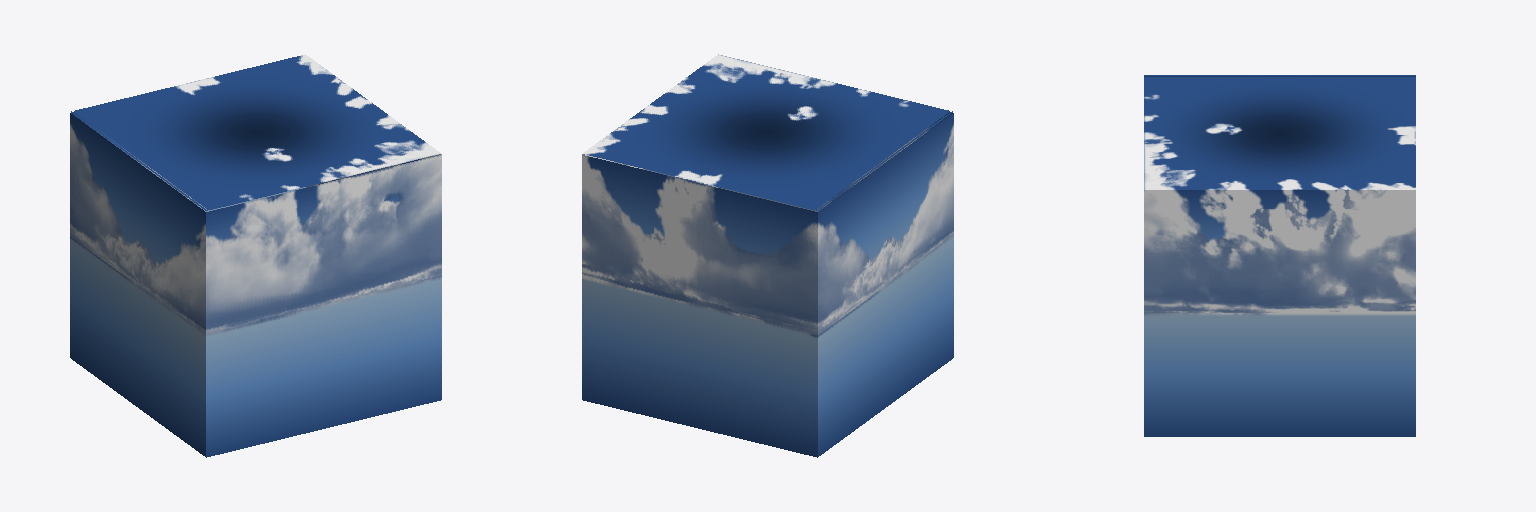
3 renders of one model, left to right at view 1: azimuth 30°, elevation 25°; view 2: azimuth 150°, elevation 25°; view 3: azimuth 270°, elevation 25°, orthographic.
Parts seen in each view (by area): view 1: skybox_Cube.013; view 2: skybox_Cube.013; view 3: skybox_Cube.013.
Boxes of the visible parts, <box> form: skybox_Cube.013: <box>70,54,441,457</box>; skybox_Cube.013: <box>582,54,953,457</box>; skybox_Cube.013: <box>1144,75,1415,436</box>.
Bounding box in the file's own units: 800 × 800 × 800.
1 materials, 1 textured.